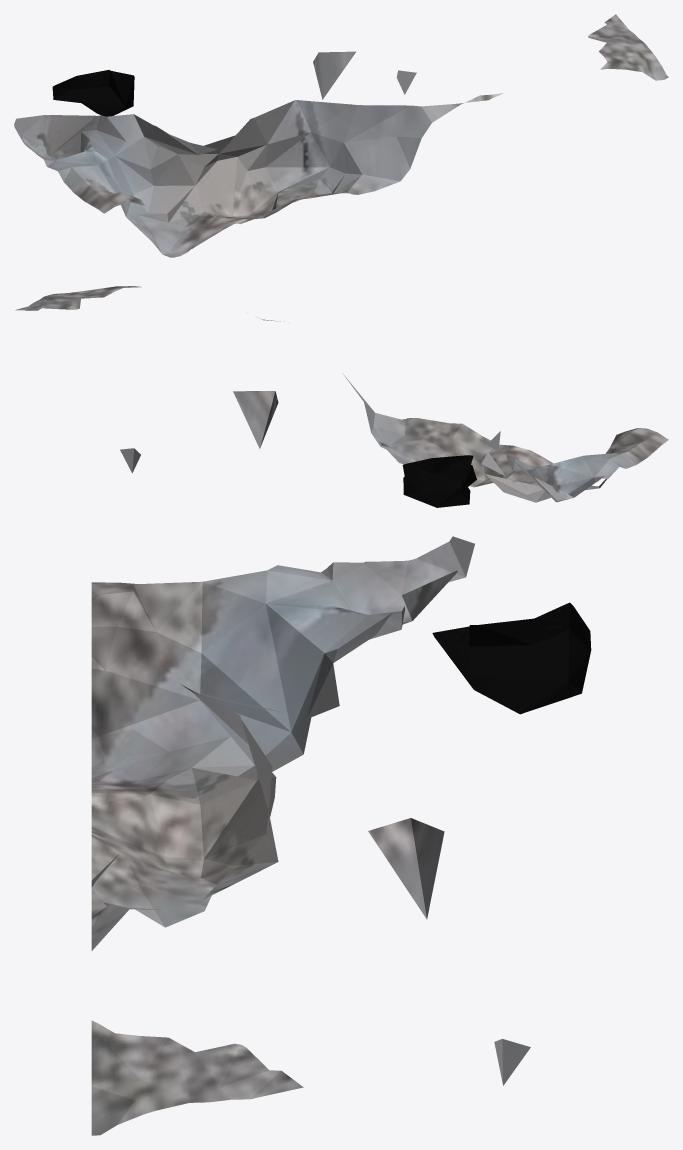
3 views of the same model, one above another, from view 1: azimuth 30°, elevation 25°; view 2: azimuth 150°, elevation 25°; view 3: azimuth 270°, elevation 25° (orthographic). The views are drawn at different scales.
Bounding box in the file's own units: 0.8374 × 0.1214 × 0.3207.
1 material, 1 textured.
